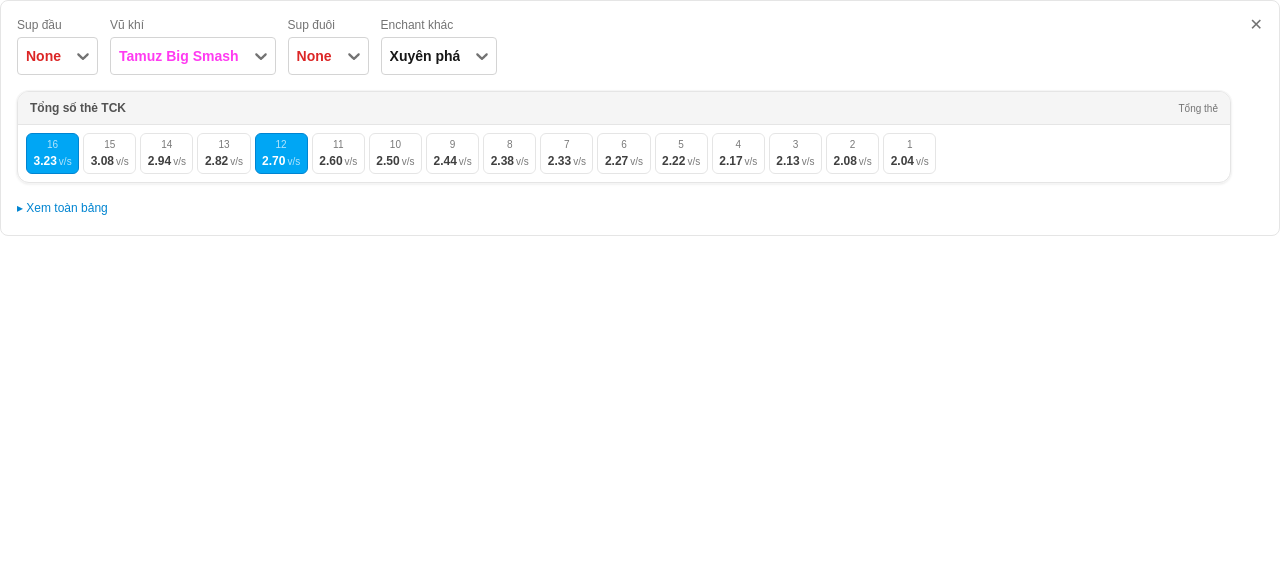
Test: BuildRow › renders a BPS table with the (0,0) cell showing the zero-quantity result once the full grid is revealed
Click the button "▸ Xem toàn bảng". click: x=62, y=208
box: [17, 200, 108, 216]
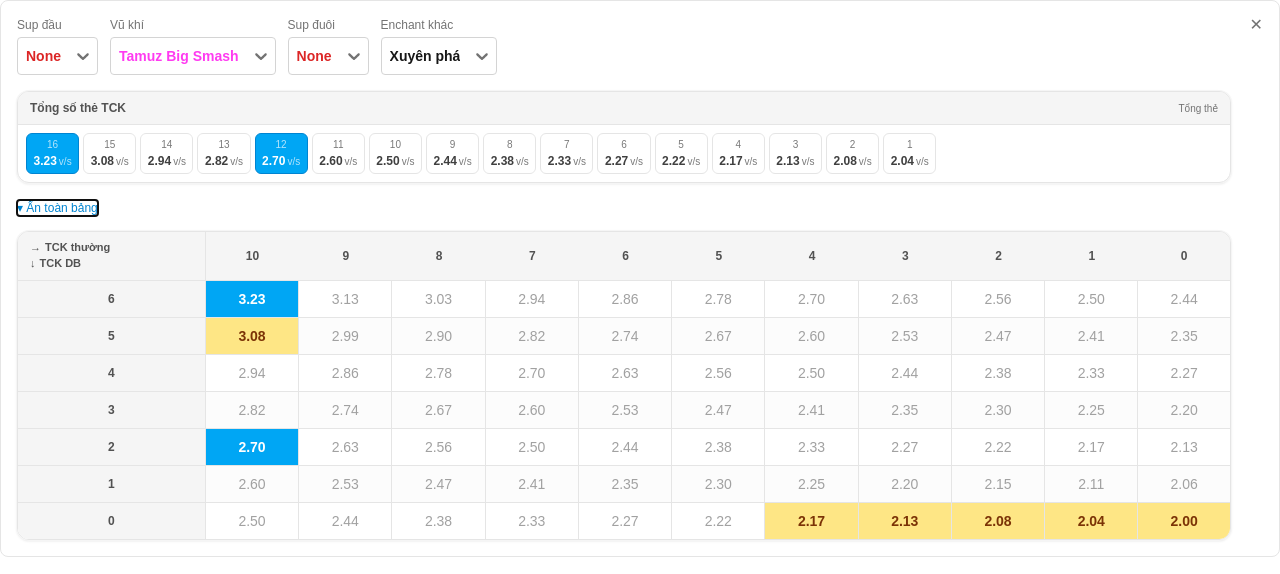
Now the cell "2.00" is shown, box [1138, 503, 1230, 539]
